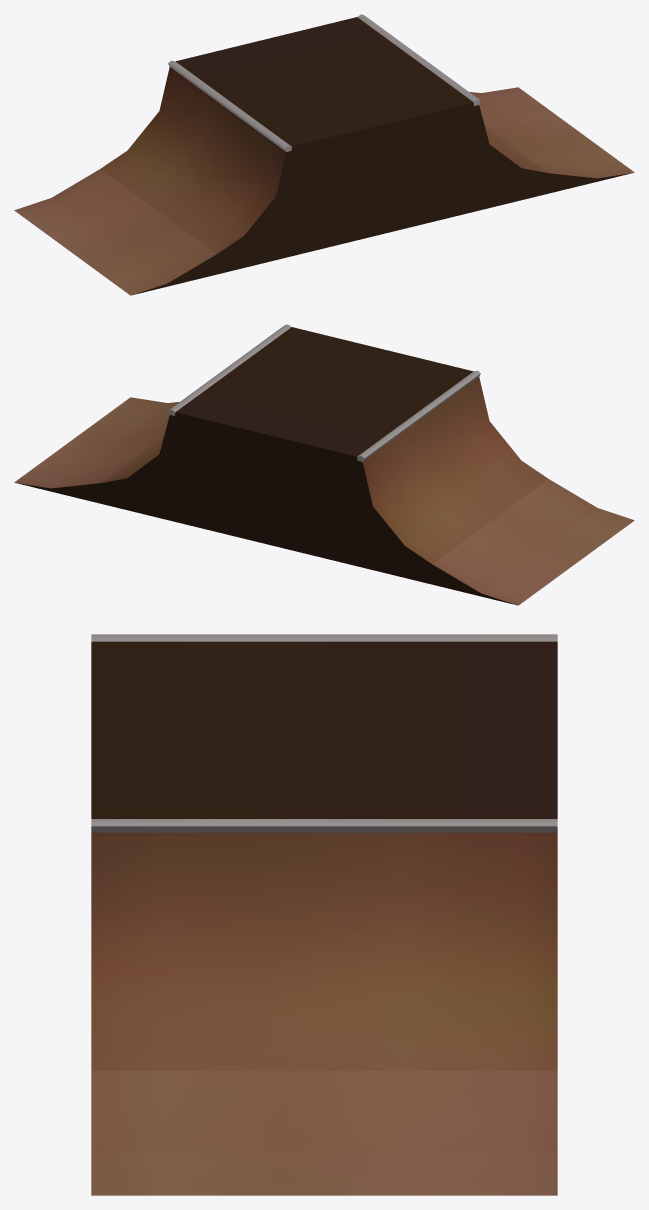
The model's file is SkateboardTabletopRamp.glb.
The picture shows the model from 3 angles, top to bottom: view 1: azimuth 30°, elevation 25°; view 2: azimuth 150°, elevation 25°; view 3: azimuth 270°, elevation 25°; orthographic projection. The views are drawn at different scales.
Visible parts, largest first — view 1: SkateboardTabletopRamp; view 2: SkateboardTabletopRamp; view 3: SkateboardTabletopRamp.
Part boxes in pixels (x1=…): SkateboardTabletopRamp: x1=14, y1=14, x2=634, y2=295; SkateboardTabletopRamp: x1=14, y1=324, x2=634, y2=605; SkateboardTabletopRamp: x1=91, y1=634, x2=557, y2=1195.
Size of the model in its own units: 9.99 by 2.11 by 4.
Materials: 1 (1 with a texture image).
